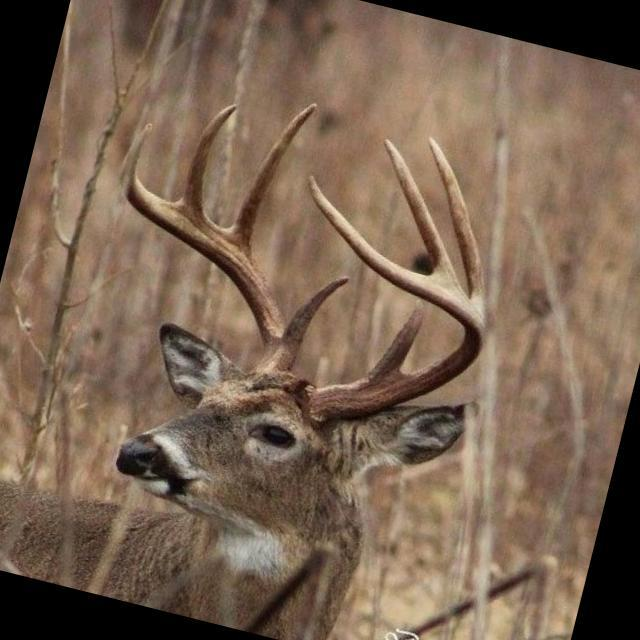L-F: (306, 173, 484, 422)
L-G1: (354, 301, 425, 381)
L-G2: (426, 136, 486, 319)
L-G3: (382, 138, 468, 299)
R-F: (118, 122, 297, 378)
R-G1: (286, 275, 349, 350)
R-G2: (221, 102, 318, 258)
R-G3: (170, 103, 239, 222)
